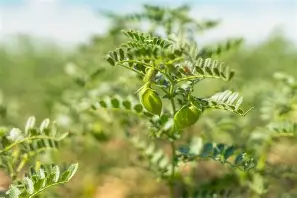crops: (0, 1, 292, 196)
